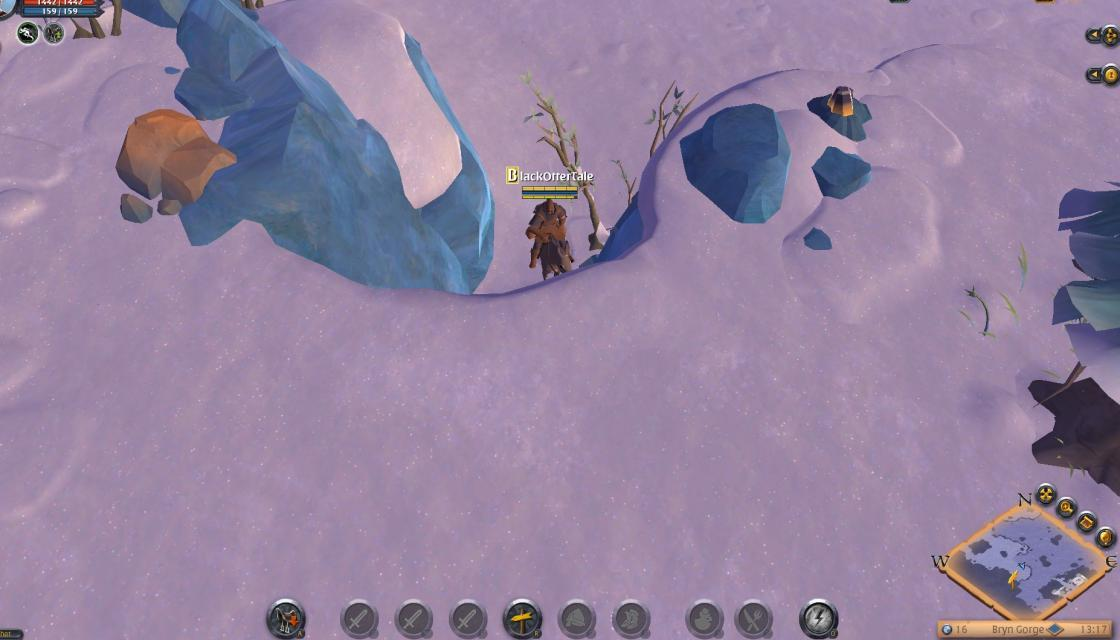copperore: (805, 77, 875, 143)
limestone: (112, 100, 240, 230)
